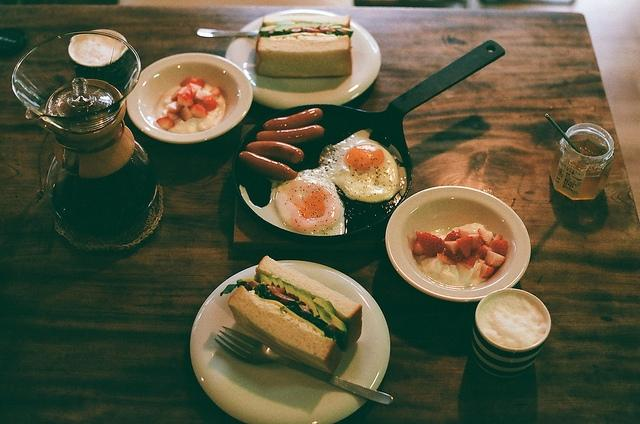avocado: (314, 297, 348, 352), (282, 280, 320, 318), (275, 20, 296, 26), (262, 22, 274, 26)
strawberry: (416, 231, 446, 257), (484, 250, 506, 267), (170, 86, 188, 102), (478, 229, 493, 246), (156, 117, 174, 131), (190, 104, 208, 118), (468, 234, 480, 252), (444, 241, 459, 254), (168, 101, 182, 114), (210, 84, 222, 98), (186, 84, 197, 98), (190, 78, 204, 88), (194, 94, 204, 104), (492, 234, 502, 241)
